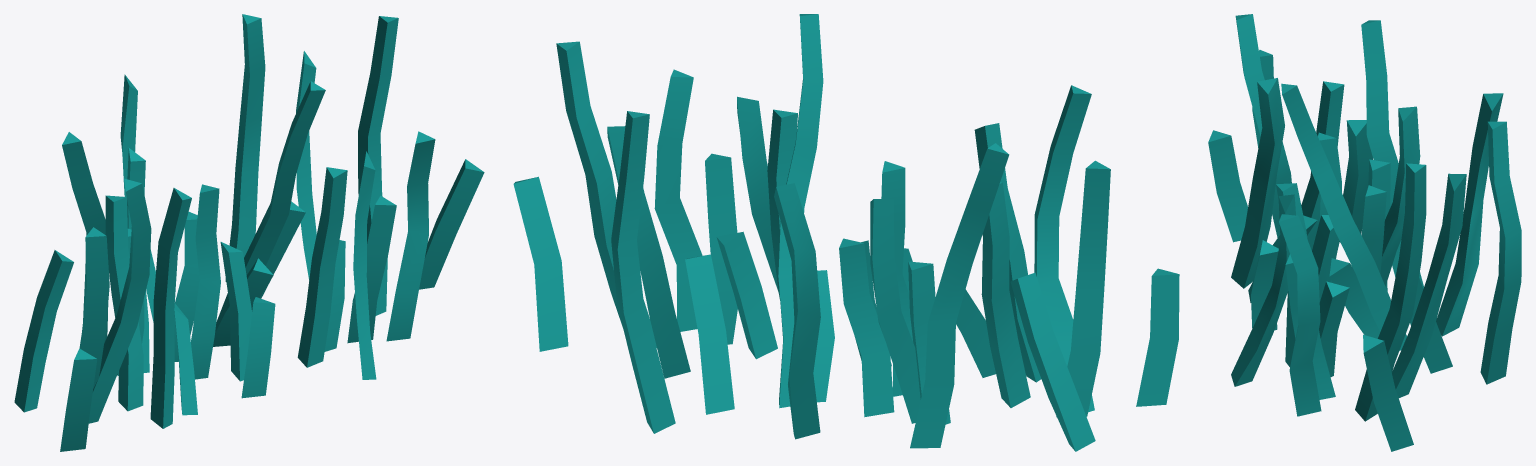
File: coral_anemone_B_ultralight.fbx
The picture shows the model from 3 angles, left to right: view 1: azimuth 30°, elevation 25°; view 2: azimuth 150°, elevation 25°; view 3: azimuth 270°, elevation 25°; orthographic projection. The views are drawn at different scales.
Visible parts, largest first — view 1: coral_anemone_B_ultralight; view 2: coral_anemone_B_ultralight; view 3: coral_anemone_B_ultralight.
Boxes of the visible parts, left/top/right/bottom form: coral_anemone_B_ultralight: left=14, top=14, right=484, bottom=451; coral_anemone_B_ultralight: left=513, top=14, right=1179, bottom=451; coral_anemone_B_ultralight: left=1208, top=14, right=1521, bottom=451.
Size of the model in its own units: 120 by 66.8 by 66.7.
